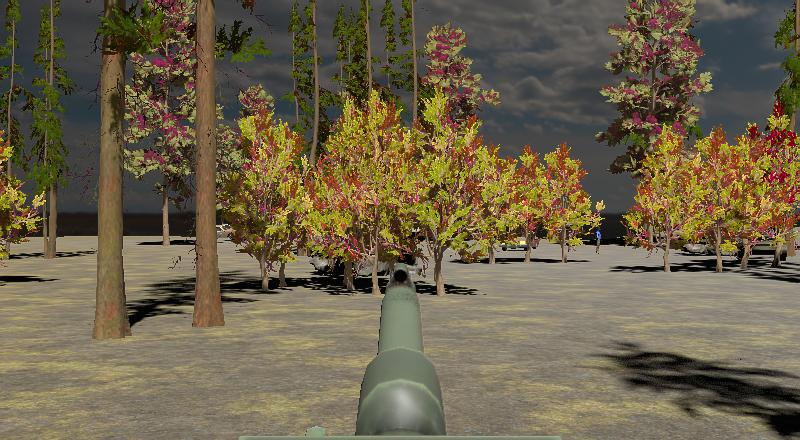Tank: (748, 232, 788, 266)
